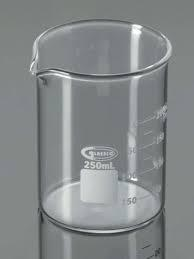Beaker: (24, 12, 175, 236)
